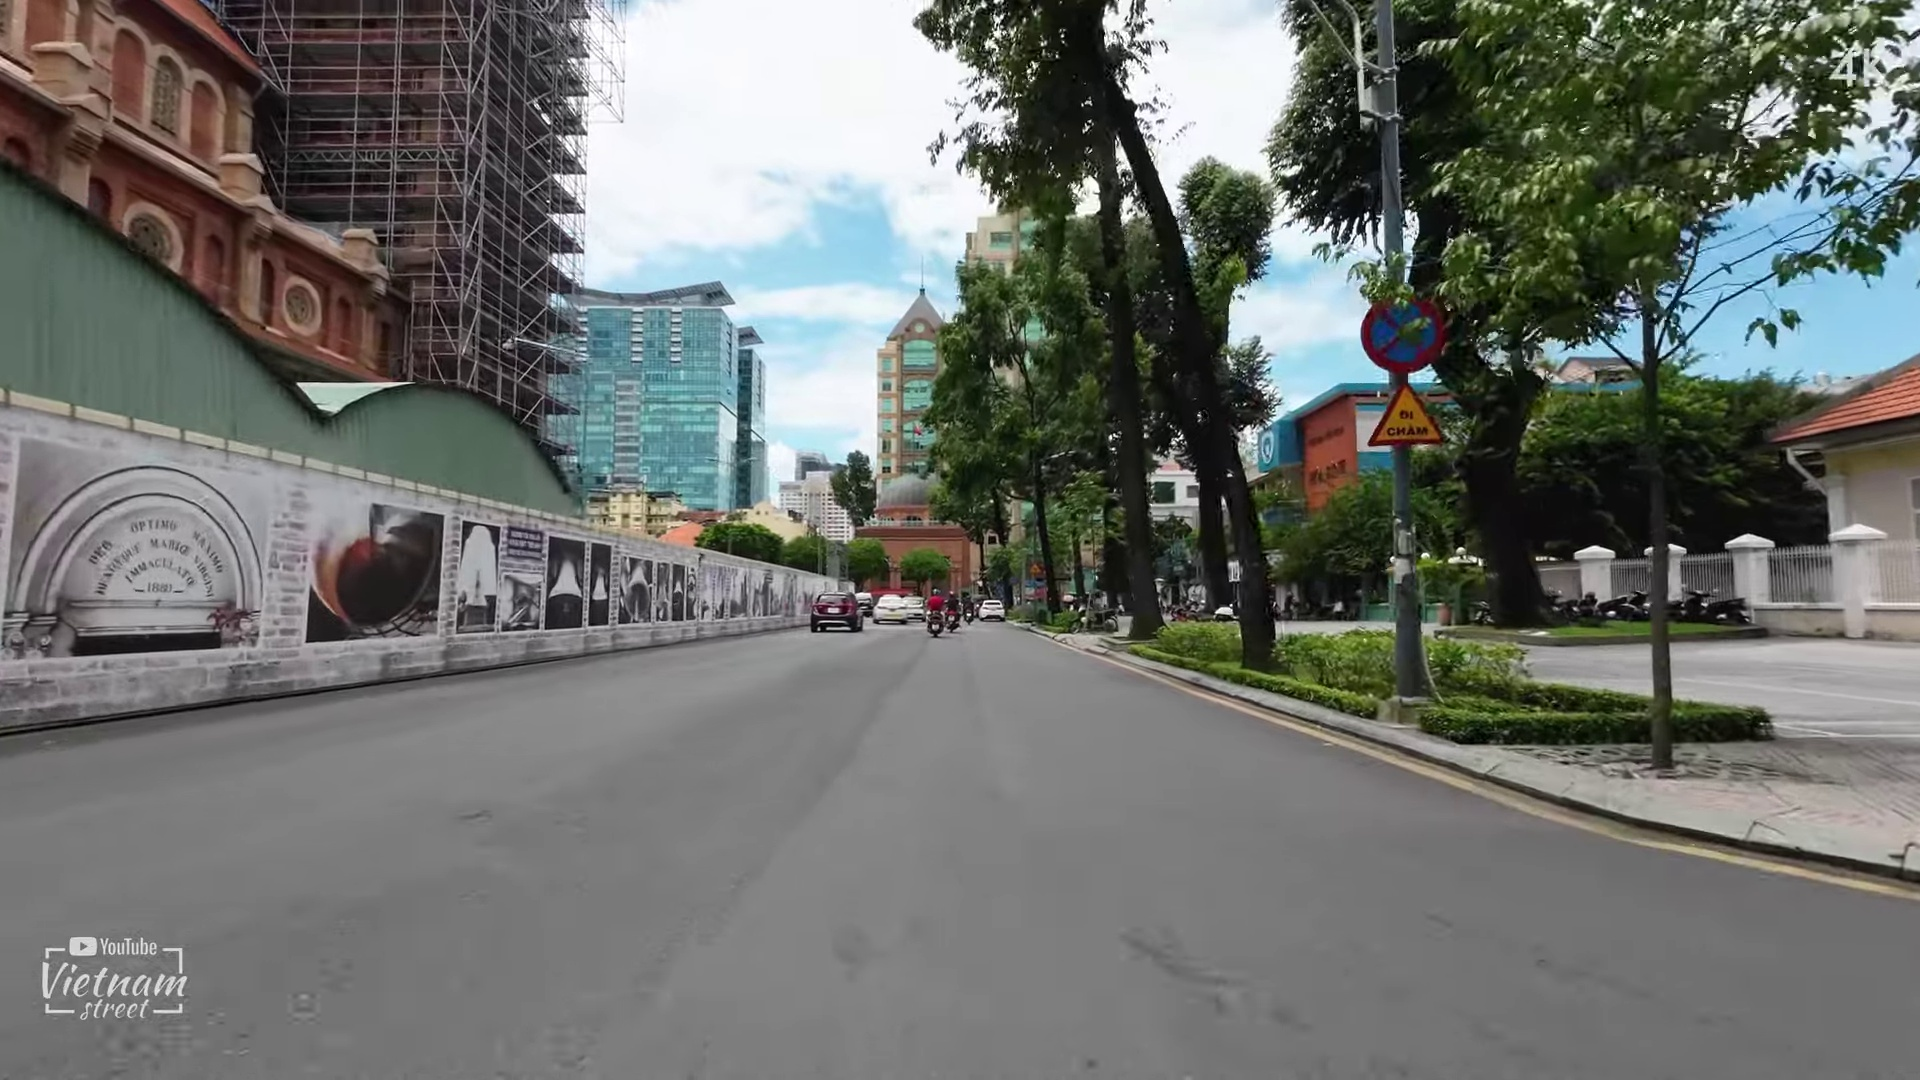di_cham: (1364, 377, 1451, 452)
